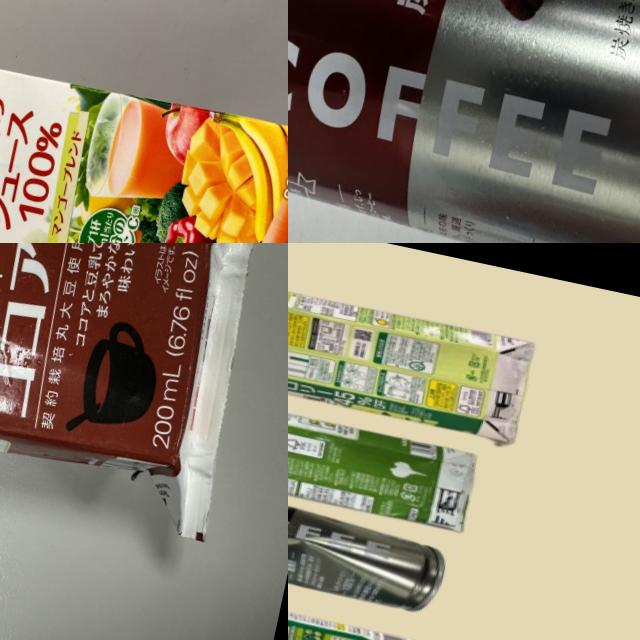Aluminium Foil: (0, 243, 258, 518), (0, 22, 288, 243), (288, 267, 540, 446), (288, 387, 482, 534)
Can: (288, 0, 640, 243), (288, 482, 444, 612)
